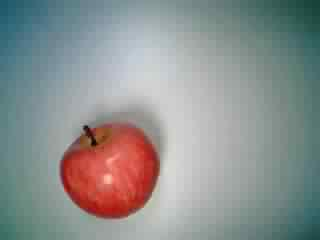apple: (53, 121, 160, 224)
